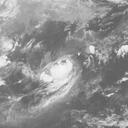cyclone: (42, 57, 78, 90)
